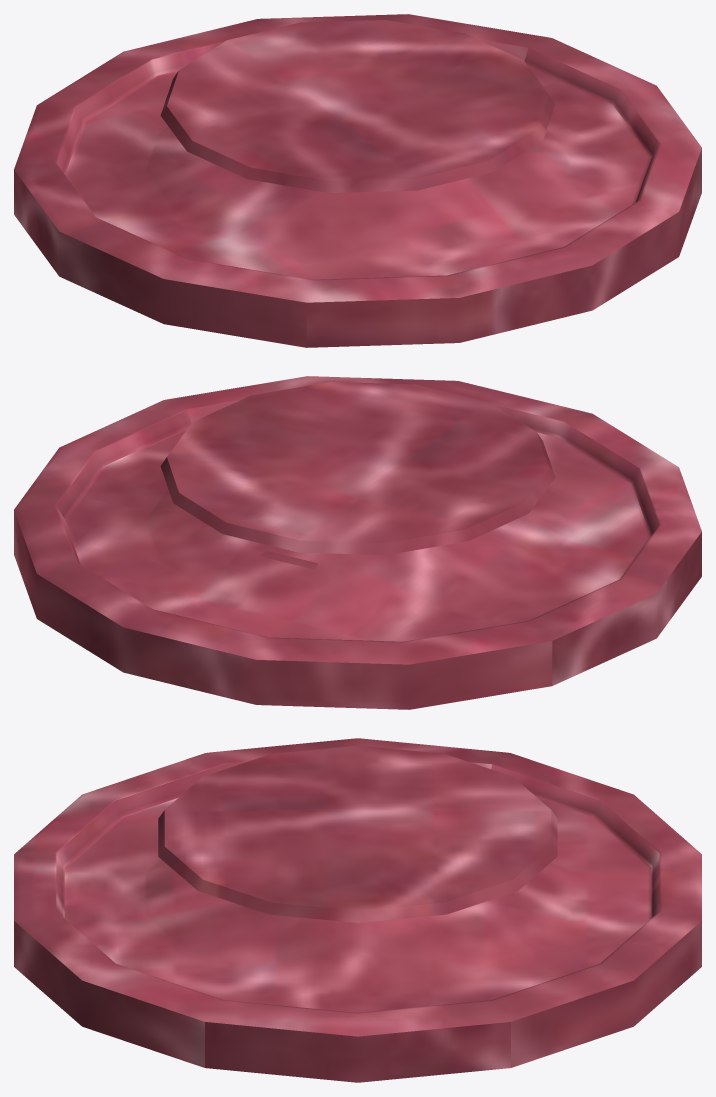
Rendered from Button.fbx.
3 views of the same model, one above another, from view 1: azimuth 30°, elevation 25°; view 2: azimuth 150°, elevation 25°; view 3: azimuth 270°, elevation 25° (orthographic). The views are drawn at different scales.
Parts seen in each view (by area): view 1: pCylinder1; view 2: pCylinder1; view 3: pCylinder1.
Part boxes in pixels (x1,y1,x2,y2): pCylinder1: [14, 14, 701, 347]; pCylinder1: [14, 376, 701, 709]; pCylinder1: [14, 738, 701, 1082].
Size of the model in its own units: 4.4 by 0.7401 by 4.29.
Materials: 1 (1 with a texture image).
